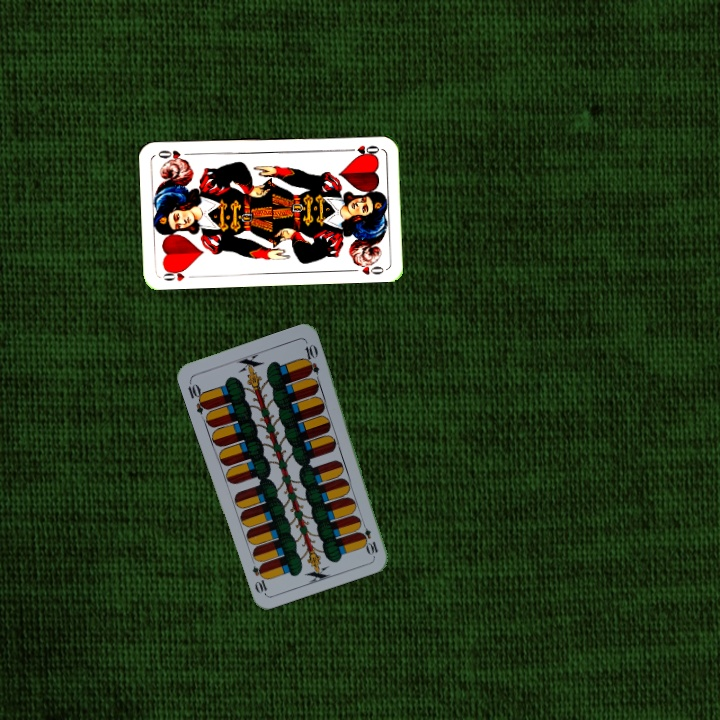E10: (184, 377, 211, 416), (357, 517, 381, 557)
HO: (158, 265, 198, 284), (342, 141, 382, 157)
